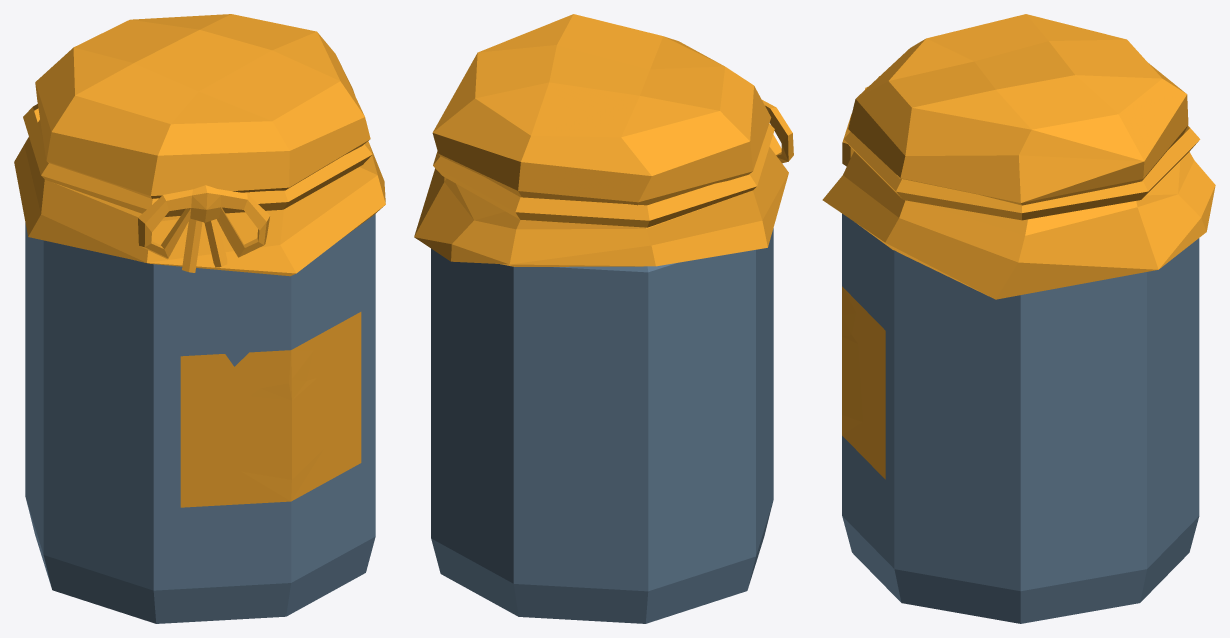
The model's file is SM_Jam_Orange.fbx.
The picture shows the model from 3 angles, left to right: view 1: azimuth 30°, elevation 25°; view 2: azimuth 150°, elevation 25°; view 3: azimuth 270°, elevation 25°; orthographic projection. The views are drawn at different scales.
Parts seen in each view (by area): view 1: jam-orange; view 2: jam-orange; view 3: jam-orange.
Boxes of the visible parts, box(x1,y1,x2,y2) form: jam-orange: box(14, 14, 385, 623); jam-orange: box(414, 14, 793, 623); jam-orange: box(822, 14, 1215, 623).
Size of the model in its own units: 0.1307 by 0.1821 by 0.1321.
